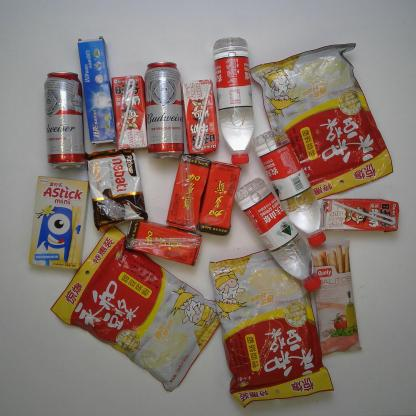Alcohol: (42, 69, 87, 172), (142, 60, 186, 163)
Dessert: (308, 238, 367, 358), (28, 174, 90, 273), (81, 147, 150, 232)
Drink: (233, 177, 323, 292), (251, 126, 327, 249), (211, 36, 256, 167), (123, 218, 204, 268), (165, 152, 212, 233), (197, 160, 242, 238)
Instant Drink: (49, 224, 224, 395), (248, 41, 394, 213), (206, 244, 336, 409)
Milk: (178, 77, 220, 157), (110, 72, 150, 152), (318, 197, 402, 235)
Personal Hygiene: (75, 35, 119, 146)
